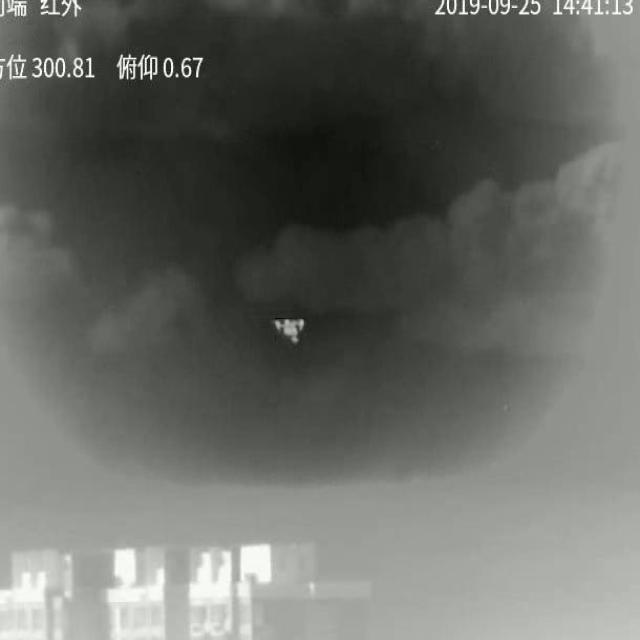drone: (275, 319, 305, 342)
